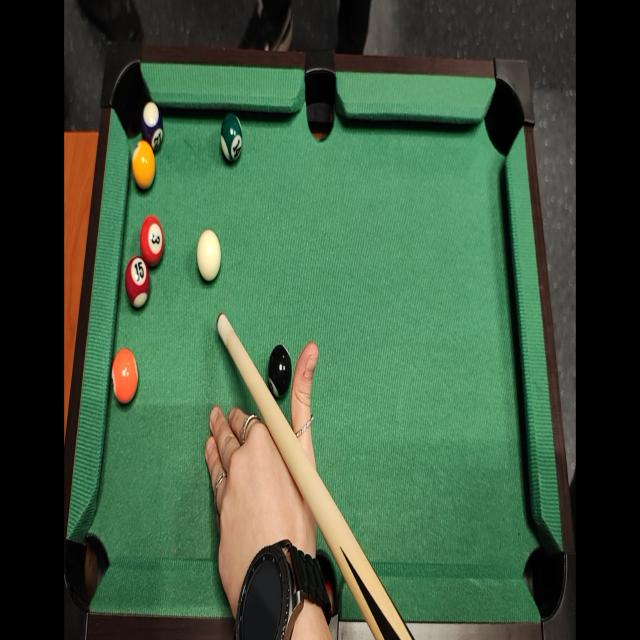cue ball: (196, 224, 222, 284)
other: (110, 348, 139, 411), (138, 212, 166, 277), (218, 111, 245, 169), (267, 342, 293, 402), (130, 137, 156, 196), (125, 256, 151, 315), (138, 99, 166, 153)
